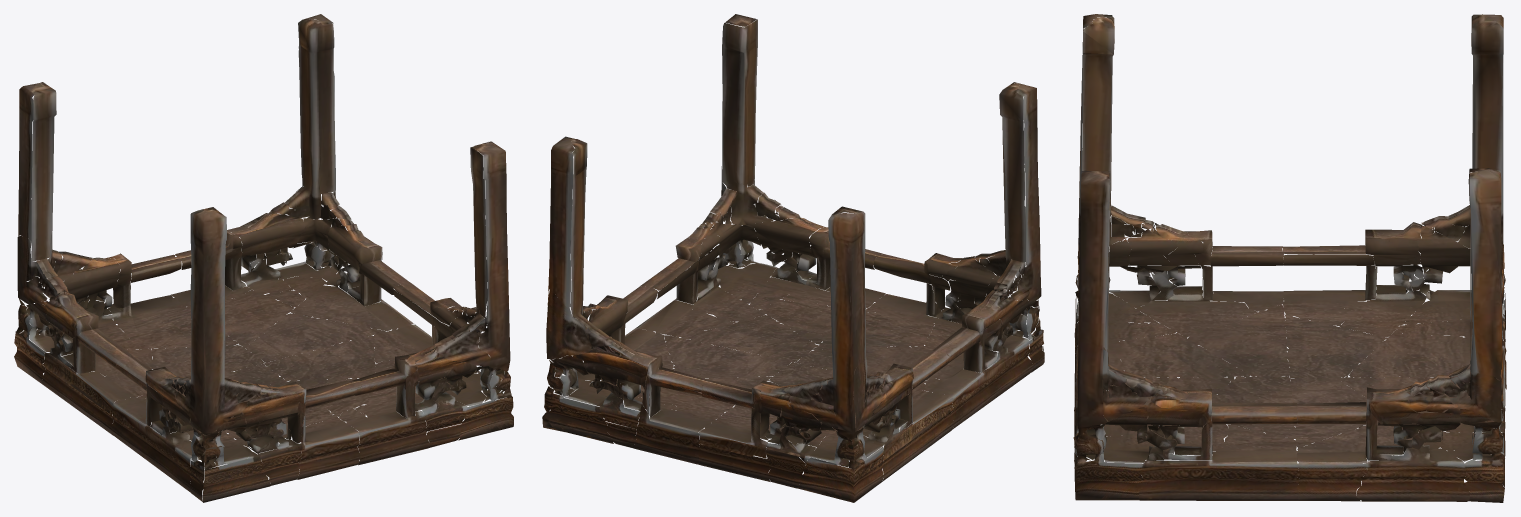
The model's file is carving.glb.
3 views of the same model, side by side, from view 1: azimuth 30°, elevation 25°; view 2: azimuth 150°, elevation 25°; view 3: azimuth 270°, elevation 25° (orthographic). The views are drawn at different scales.
Visible parts, largest first — view 1: Supplied carving; view 2: Supplied carving; view 3: Supplied carving.
Part boxes in pixels (x1,y1,x2,y2): Supplied carving: (14, 14, 513, 502); Supplied carving: (542, 14, 1044, 502); Supplied carving: (1073, 14, 1506, 502).
Size of the model in its own units: 0.949 by 0.8223 by 1.
1 material, 1 textured.
